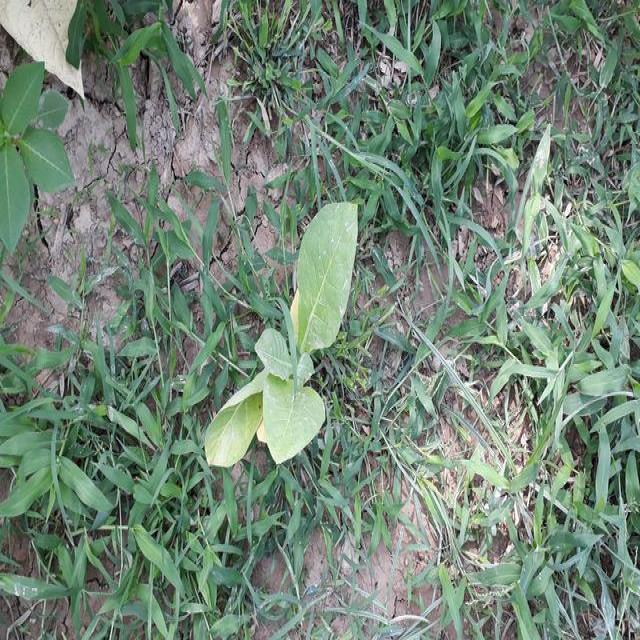crop: (202, 177, 365, 473)
